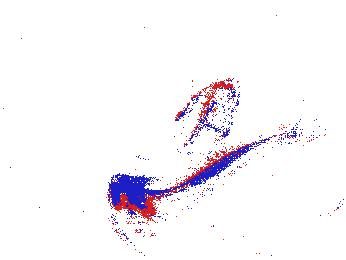X-ray fish: (147, 78, 241, 174)
glassfish: (109, 128, 290, 212)
siberian prawn: (224, 216, 346, 255)
